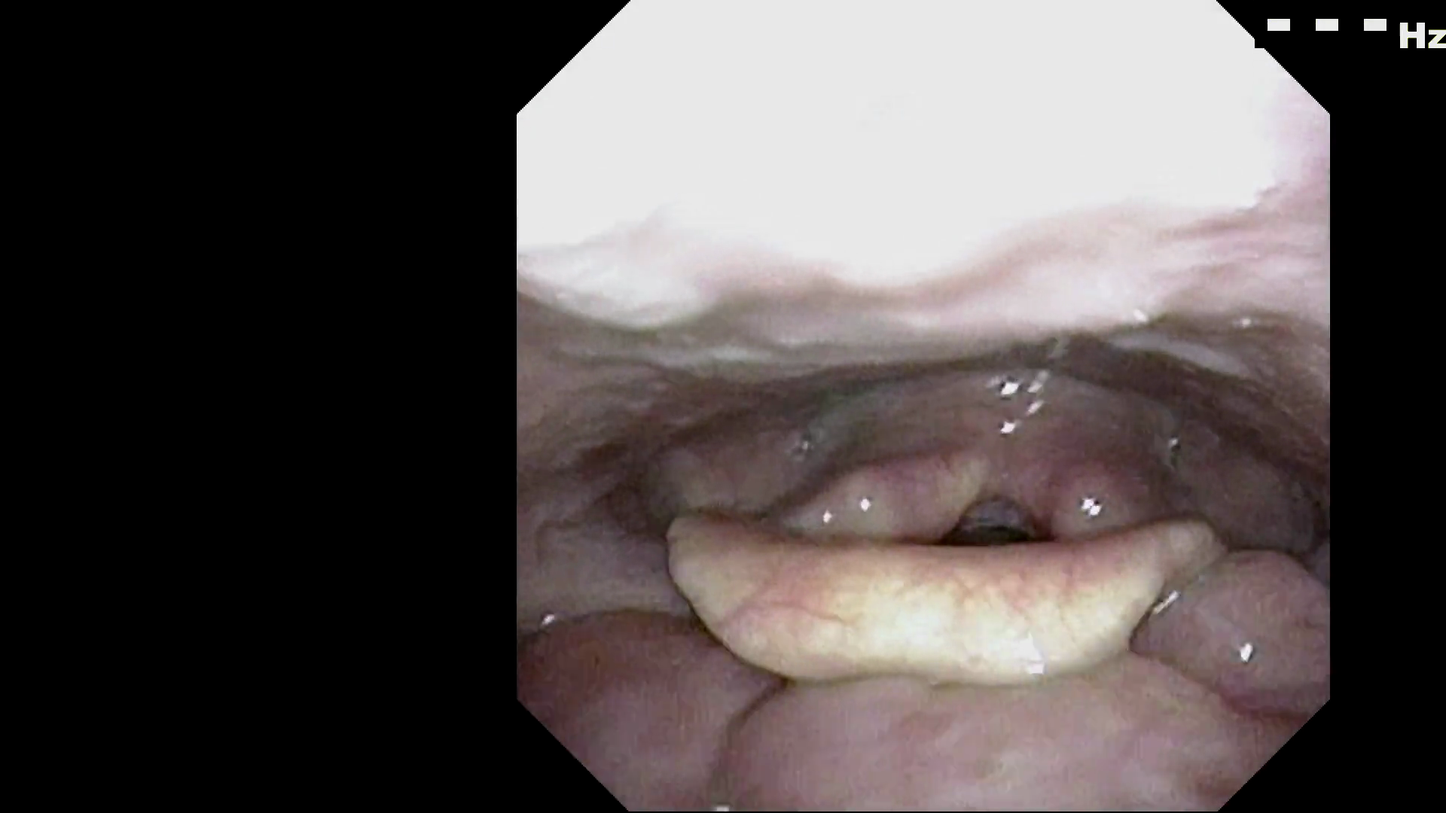epiglottis: (700, 499, 1241, 639)
